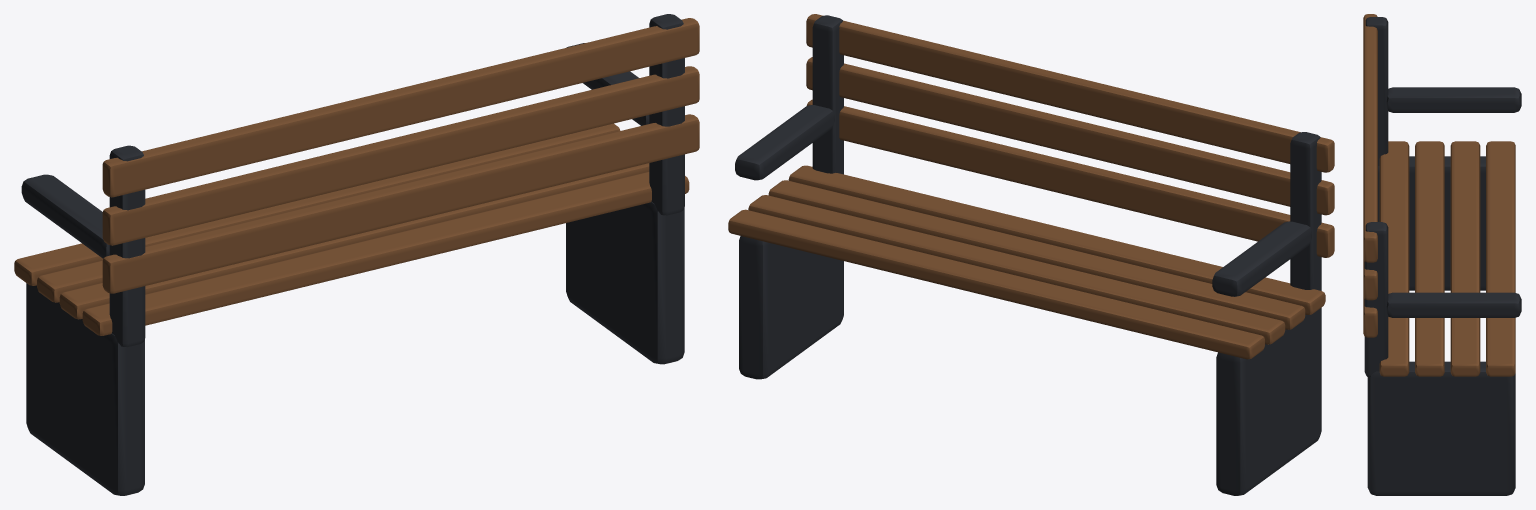
File: bench.glb
3 renders of one model, left to right at view 1: azimuth 30°, elevation 25°; view 2: azimuth 150°, elevation 25°; view 3: azimuth 270°, elevation 25°, orthographic. The views are drawn at different scales.
Visible parts, largest first — view 1: part-slat-wood, part-iron; view 2: part-slat-wood, part-iron; view 3: part-iron, part-slat-wood.
Part boxes in pixels (x1,y1,x2,y2): part-slat-wood: [14, 18, 699, 335]; part-iron: [21, 14, 684, 495]; part-slat-wood: [728, 14, 1334, 359]; part-iron: [735, 15, 1321, 495]; part-iron: [1364, 17, 1521, 495]; part-slat-wood: [1363, 14, 1515, 376].
Bounding box in the file's own units: 18 × 10 × 5.35.
